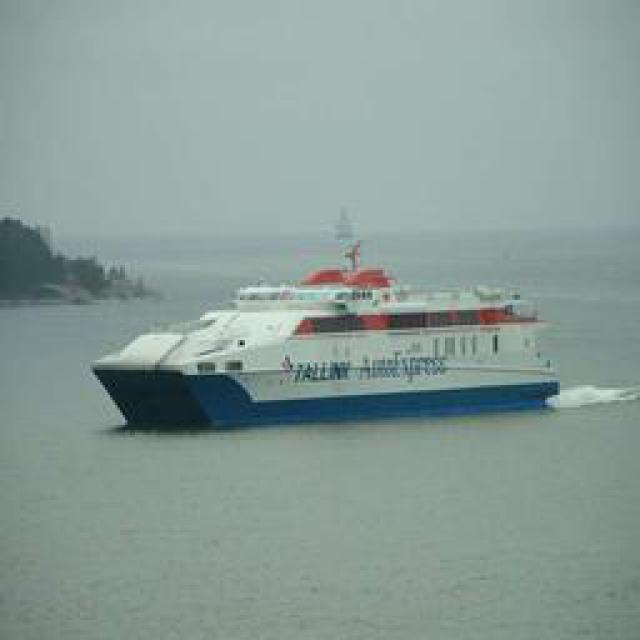Ship: (94, 236, 559, 431)
